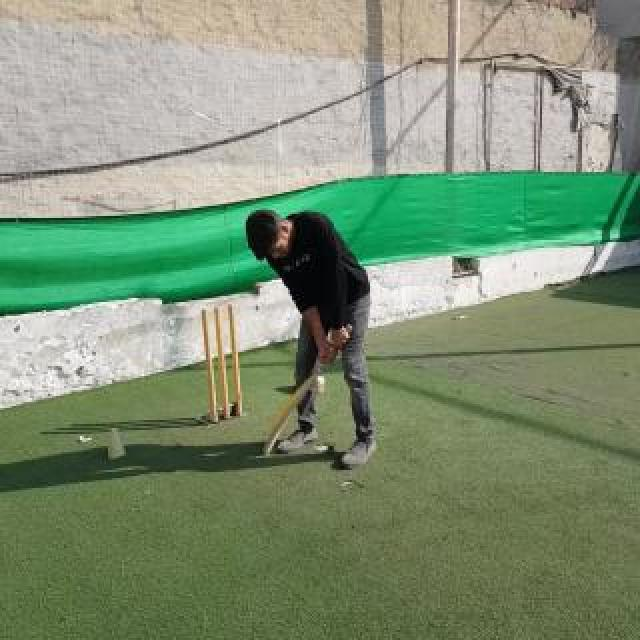bat: (262, 326, 354, 454)
